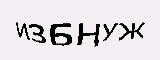Б: (48, 20, 75, 47)
Ж: (116, 20, 145, 42)
З: (27, 21, 46, 45)
И: (12, 19, 30, 40)
У: (101, 21, 118, 43)
Ң: (76, 20, 100, 48)
